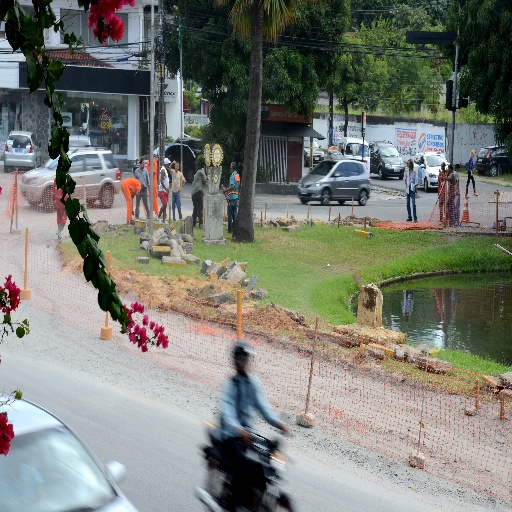hand: (172, 159, 174, 163)
